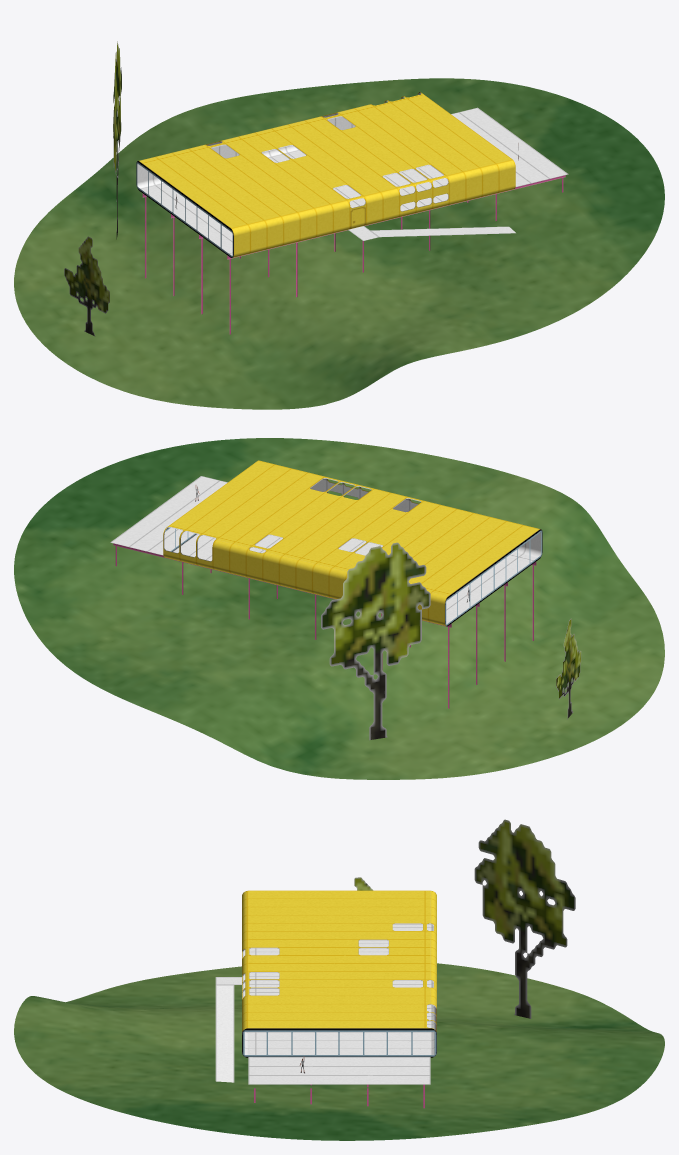
Rendered from zipup.obj.
The picture shows the model from 3 angles, top to bottom: view 1: azimuth 30°, elevation 25°; view 2: azimuth 150°, elevation 25°; view 3: azimuth 270°, elevation 25°; orthographic projection.
Size of the model in its own units: 2400 by 862 by 2400.
1 material, 1 textured.
